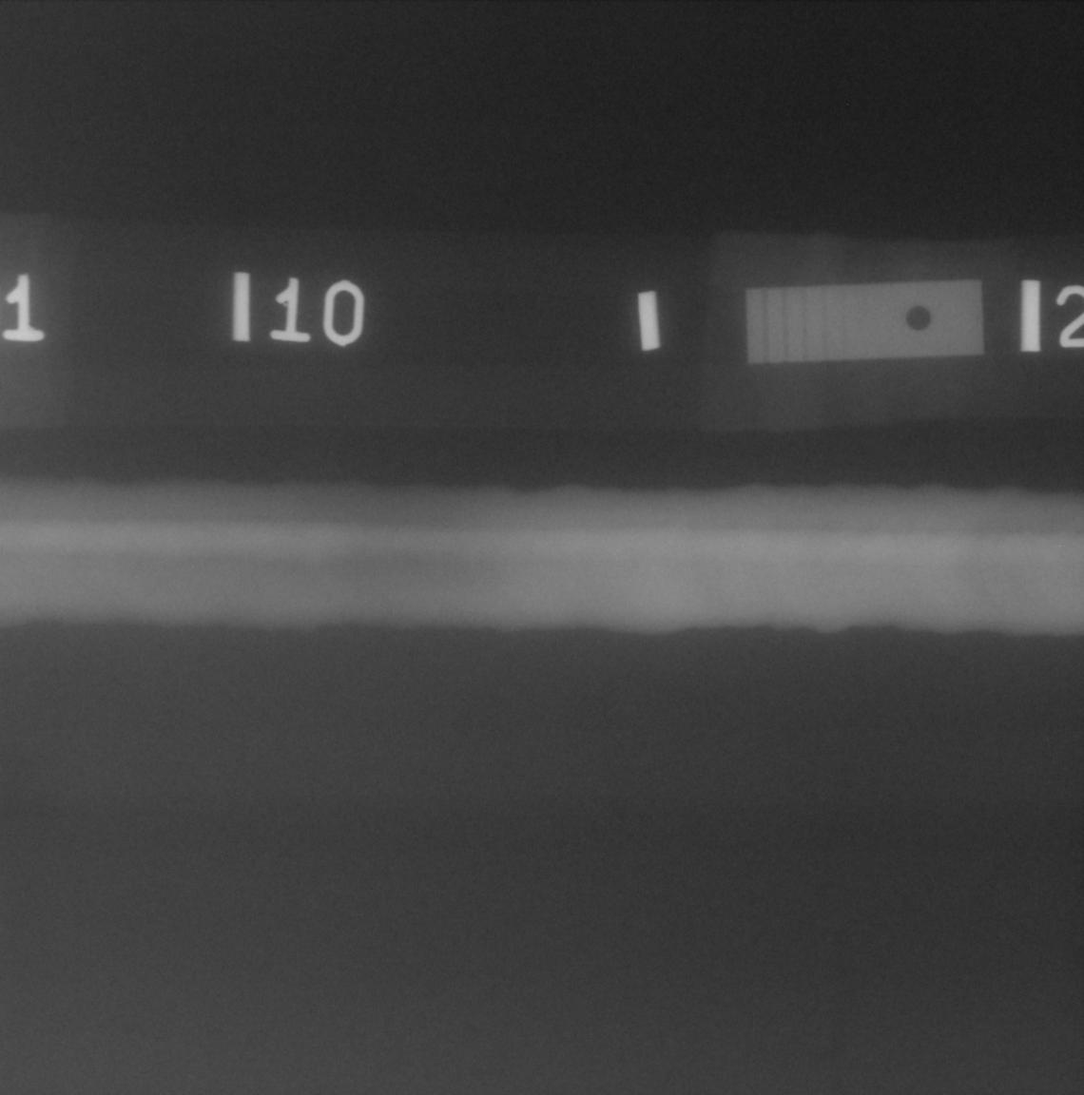Reference Standard 1: (745, 279, 985, 364)
